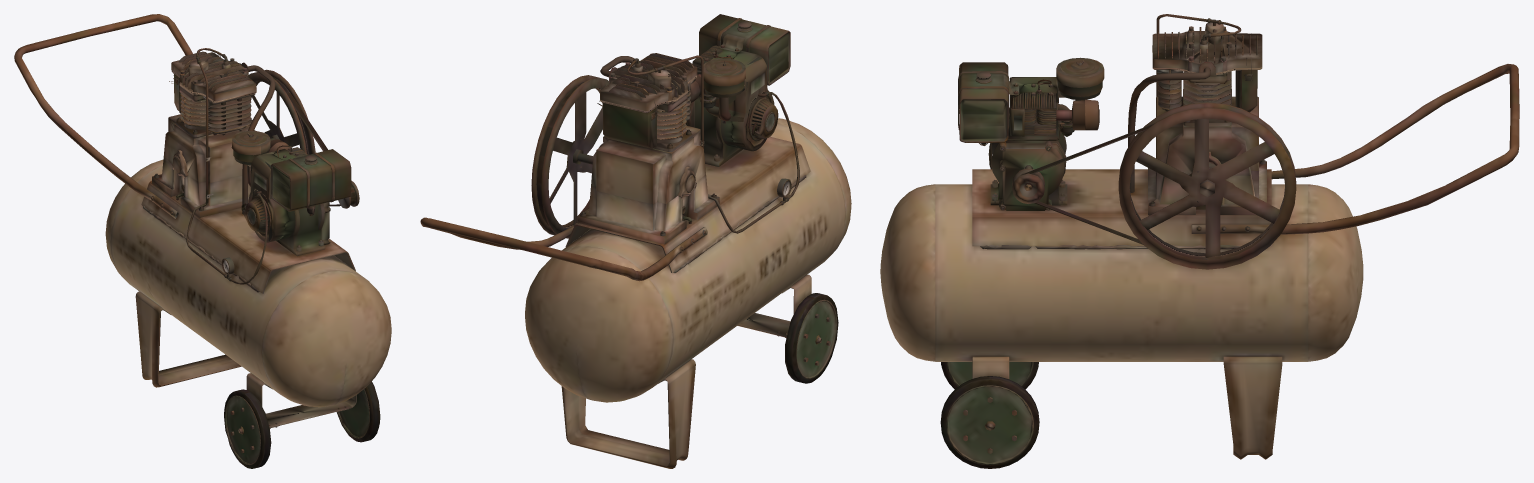
Rendered from old_military_compressor.glb.
3 renders of one model, left to right at view 1: azimuth 30°, elevation 25°; view 2: azimuth 150°, elevation 25°; view 3: azimuth 270°, elevation 25°, orthographic. The views are drawn at different scales.
Visible parts, largest first — view 1: old_military_compressor; view 2: old_military_compressor; view 3: old_military_compressor.
Part boxes in pixels (bbox=[...]): old_military_compressor: bbox=[14, 14, 391, 468]; old_military_compressor: bbox=[420, 14, 851, 468]; old_military_compressor: bbox=[880, 14, 1519, 468].
Size of the model in its own units: 0.5983 by 1.18 by 1.68.
Materials: 2 (2 with a texture image).
